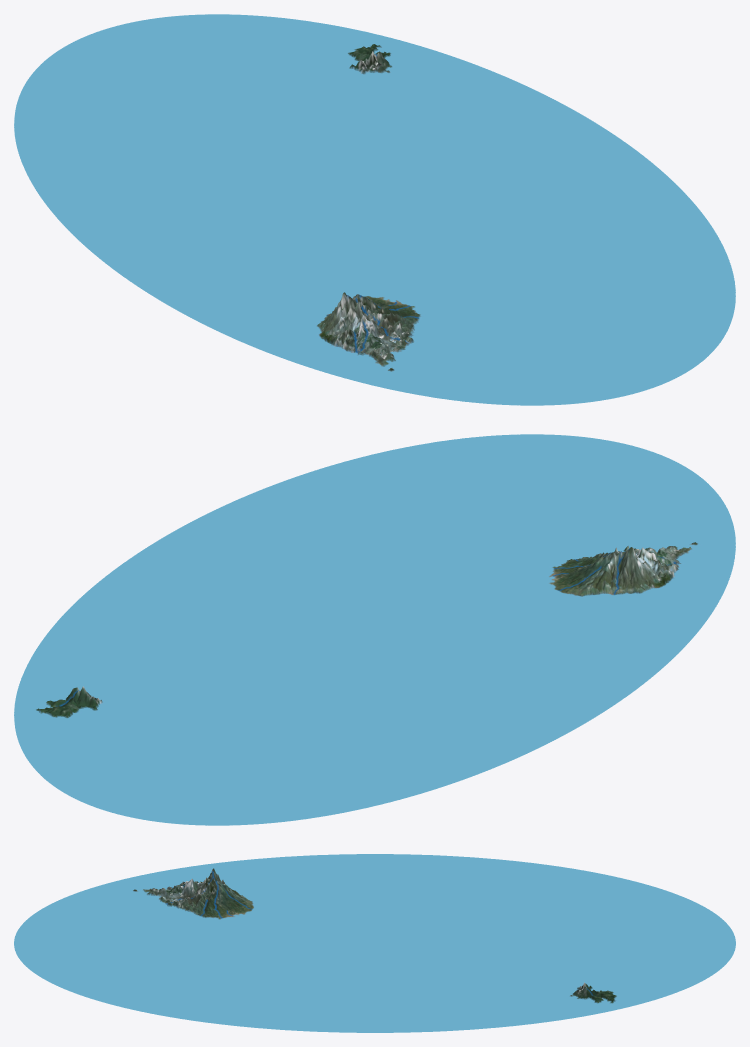
The model's file is STP-previa-terrain.glb.
3 renders of one model, top to bottom at view 1: azimuth 30°, elevation 25°; view 2: azimuth 150°, elevation 25°; view 3: azimuth 270°, elevation 25°, orthographic. The views are drawn at different scales.
Parts seen in each view (by area): view 1: São Tomé e Príncipe; view 2: São Tomé e Príncipe; view 3: São Tomé e Príncipe.
Boxes of the visible parts, <box> form: São Tomé e Príncipe: <box>14,14,735,405</box>; São Tomé e Príncipe: <box>14,434,735,825</box>; São Tomé e Príncipe: <box>14,854,735,1032</box>.
Bounding box in the file's own units: 1.54 × 0.1012 × 2.62.
1 material, 1 textured.
